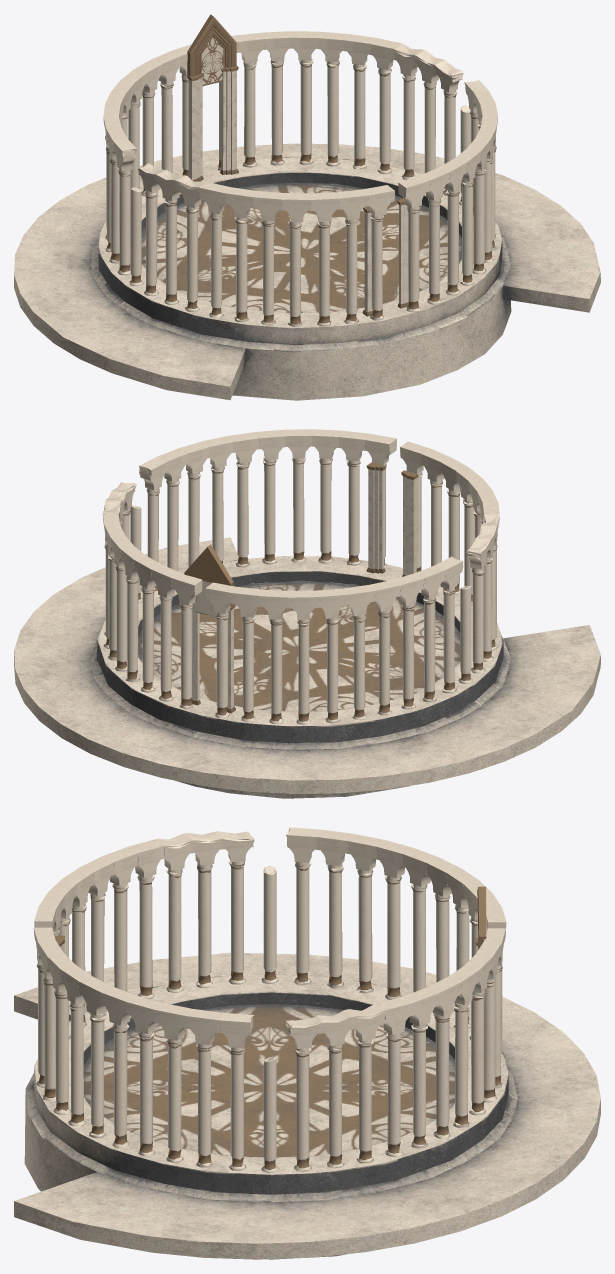
The model's file is Arena.gltf.
The picture shows the model from 3 angles, top to bottom: view 1: azimuth 30°, elevation 25°; view 2: azimuth 150°, elevation 25°; view 3: azimuth 270°, elevation 25°; orthographic projection. The views are drawn at different scales.
Visible parts, largest first — view 1: Mesh; view 2: Mesh; view 3: Mesh.
Boxes of the visible parts, box(x1,y1,x2,y2) form: Mesh: box(14, 14, 600, 400); Mesh: box(14, 429, 600, 798); Mesh: box(14, 827, 600, 1259).
Bounding box in the file's own units: 527 × 228 × 449.
Materials: 17 (17 with a texture image).
